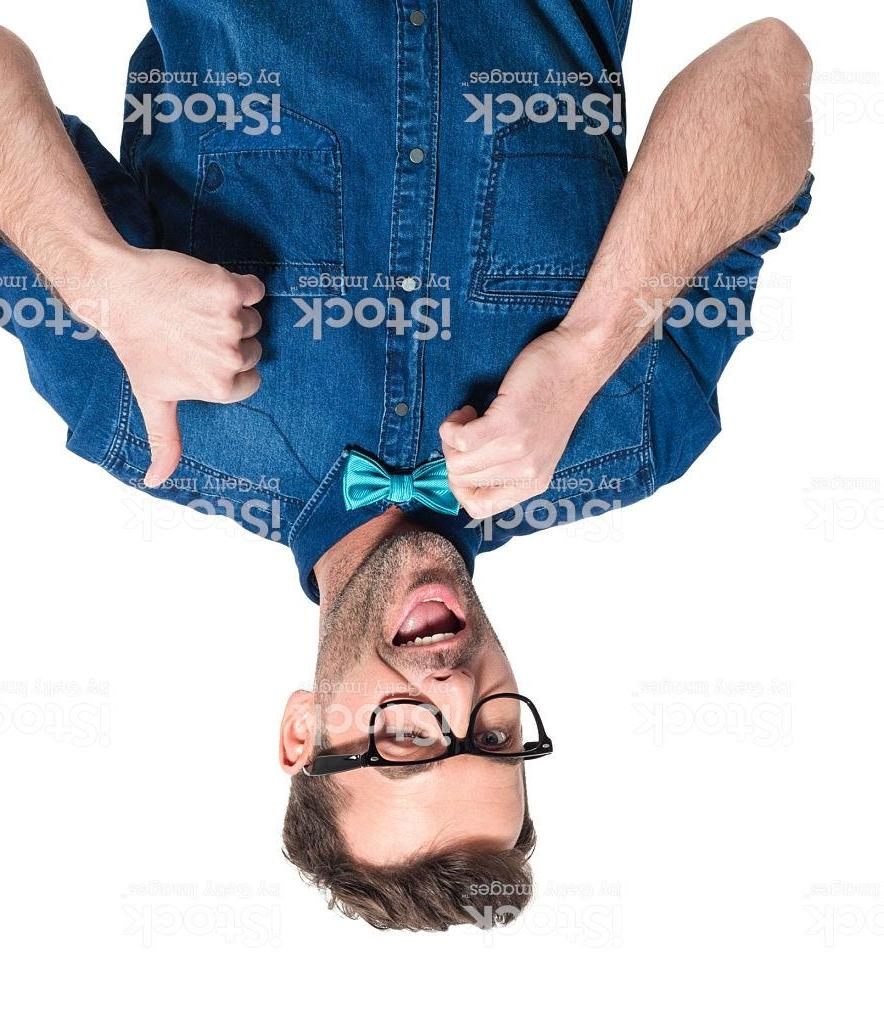thumbsdown: (137, 252, 266, 488)
